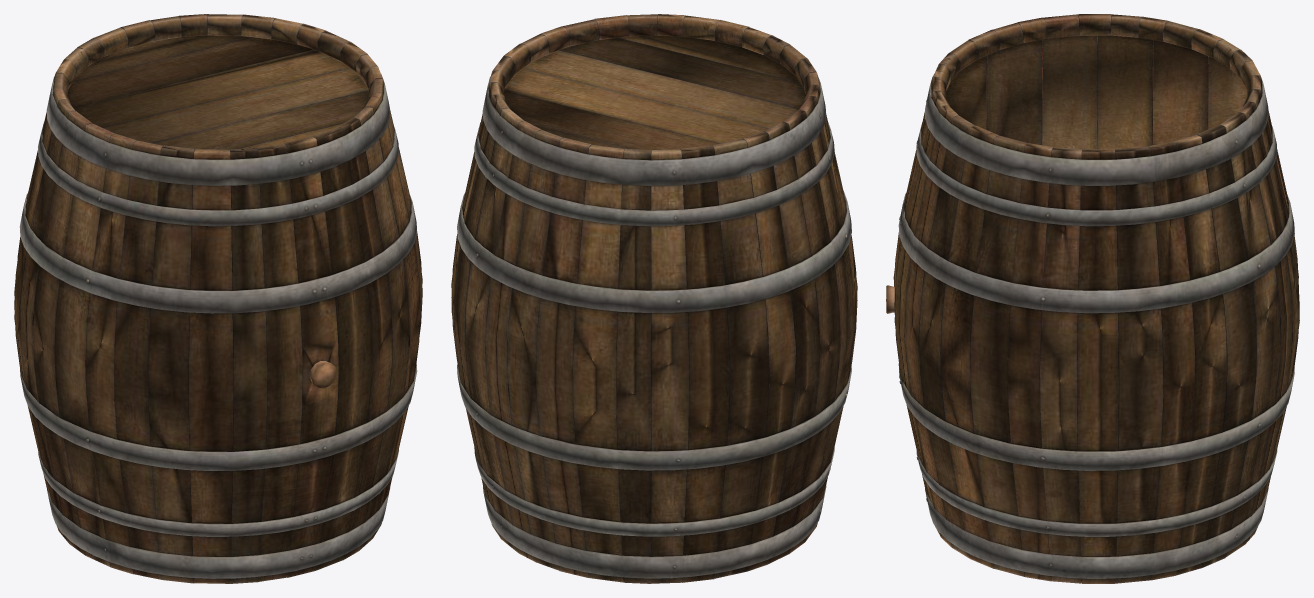
File: wine_barrel_01.gltf
The picture shows the model from 3 angles, left to right: view 1: azimuth 30°, elevation 25°; view 2: azimuth 150°, elevation 25°; view 3: azimuth 270°, elevation 25°; orthographic projection.
Visible parts, largest first — view 1: wine_barrel_01, wine_barrel_01_Lid, wine_barrel_01_bung; view 2: wine_barrel_01, wine_barrel_01_Lid; view 3: wine_barrel_01, wine_barrel_01_Lid.
Part boxes in pixels (<box>): wine_barrel_01: <box>14,14,422,583</box>; wine_barrel_01_Lid: <box>67,35,368,149</box>; wine_barrel_01_bung: <box>309,361,336,388</box>; wine_barrel_01: <box>451,14,857,583</box>; wine_barrel_01_Lid: <box>504,35,805,152</box>; wine_barrel_01: <box>893,14,1299,583</box>; wine_barrel_01_Lid: <box>946,35,1247,149</box>.
Size of the model in its own units: 0.7422 by 0.8713 by 0.7561.
1 material, 1 textured.
